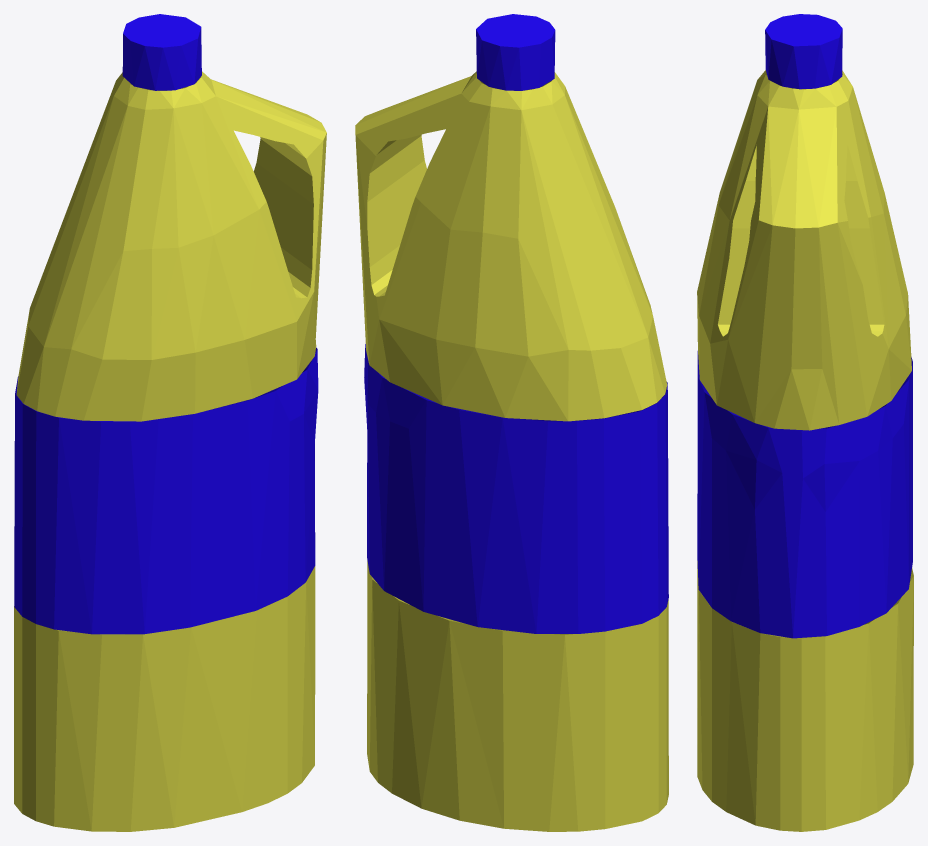
Rendered from bleach.fbx.
The picture shows the model from 3 angles, left to right: view 1: azimuth 30°, elevation 25°; view 2: azimuth 150°, elevation 25°; view 3: azimuth 270°, elevation 25°; orthographic projection. The views are drawn at different scales.
Visible parts, largest first — view 1: base, cinta, tapon; view 2: base, cinta, tapon; view 3: base, cinta, tapon.
Part boxes in pixels (x1,y1,x2,y2): base: (14,71,326,831); cinta: (14,347,318,634); tapon: (122,14,201,90); base: (355,71,668,831); cinta: (364,344,668,633); tapon: (476,14,555,90); base: (697,70,913,831); cinta: (697,351,912,638); tapon: (765,14,842,89).
Bounding box in the file's own units: 210 × 505 × 135.
